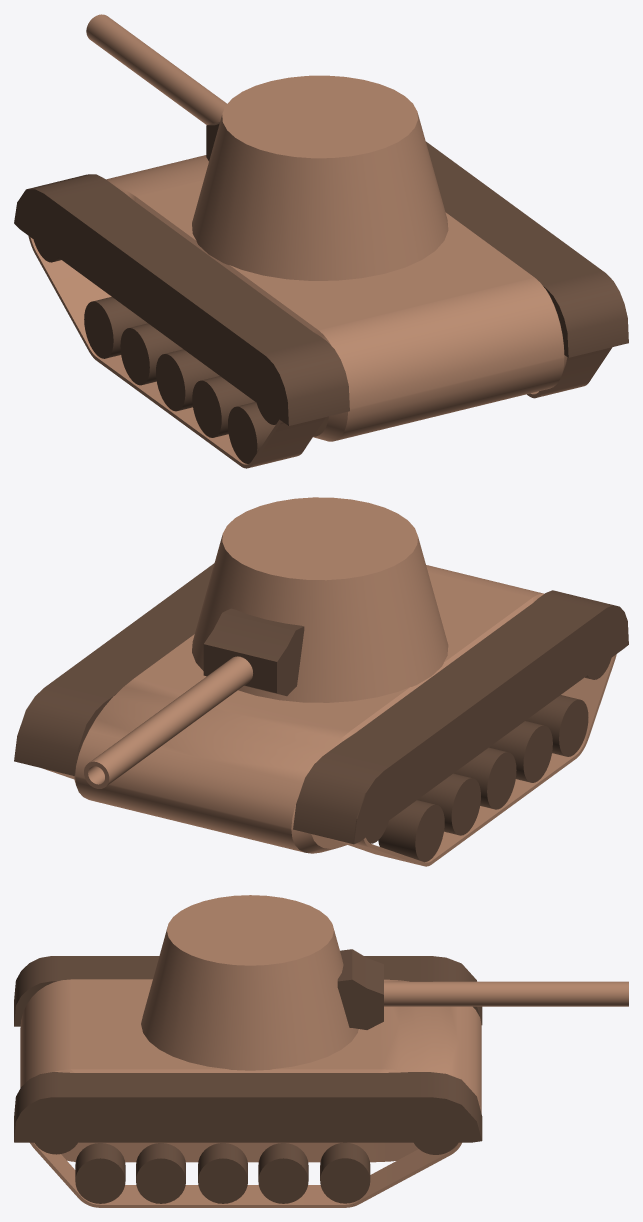
The model's file is Tank_Enemy_01.glb.
3 views of the same model, one above another, from view 1: azimuth 30°, elevation 25°; view 2: azimuth 150°, elevation 25°; view 3: azimuth 270°, elevation 25° (orthographic). The views are drawn at different scales.
Parts seen in each view (by area): view 1: Tank_Body_Down, Tank_Body_Up; view 2: Tank_Body_Down, Tank_Body_Up; view 3: Tank_Body_Down, Tank_Body_Up.
Part boxes in pixels (x1=…): Tank_Body_Down: x1=14, y1=141, x2=628, y2=468; Tank_Body_Up: x1=86, y1=14, x2=448, y2=280; Tank_Body_Down: x1=14, y1=563, x2=628, y2=866; Tank_Body_Up: x1=84, y1=497, x2=448, y2=788; Tank_Body_Down: x1=14, y1=956, x2=482, y2=1207; Tank_Body_Up: x1=141, y1=895, x2=628, y2=1070.
Size of the model in its own units: 4 by 2.74 by 7.35.
